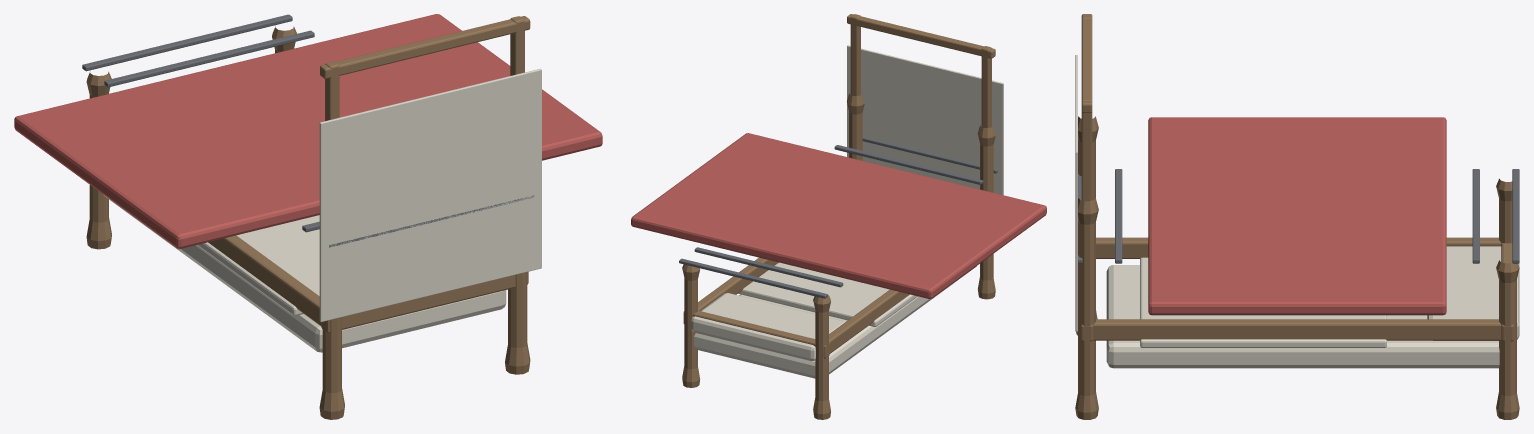
Rendered from infirmary_cot.glb.
3 views of the same model, side by side, from view 1: azimuth 30°, elevation 25°; view 2: azimuth 150°, elevation 25°; view 3: azimuth 270°, elevation 25° (orthographic). The views are drawn at different scales.
Parts seen in each view (by area): view 1: 274-infirmary-cot/2, 274-infirmary-cot/3, 274-infirmary-cot/0, 274-infirmary-cot/1; view 2: 274-infirmary-cot/3, 274-infirmary-cot/2, 274-infirmary-cot/0, 274-infirmary-cot/1; view 3: 274-infirmary-cot/3, 274-infirmary-cot/0, 274-infirmary-cot/2, 274-infirmary-cot/1.
Part boxes in pixels (x1=…): 274-infirmary-cot/2: x1=103, y1=68, x2=541, y2=352; 274-infirmary-cot/3: x1=14, y1=14, x2=602, y2=248; 274-infirmary-cot/0: x1=86, y1=16, x2=530, y2=419; 274-infirmary-cot/1: x1=82, y1=14, x2=534, y2=247; 274-infirmary-cot/3: x1=631, y1=133, x2=1046, y2=298; 274-infirmary-cot/2: x1=691, y1=45, x2=1003, y2=378; 274-infirmary-cot/0: x1=682, y1=14, x2=995, y2=419; 274-infirmary-cot/1: x1=679, y1=136, x2=997, y2=298; 274-infirmary-cot/3: x1=1148, y1=117, x2=1446, y2=315; 274-infirmary-cot/0: x1=1075, y1=14, x2=1519, y2=419; 274-infirmary-cot/2: x1=1075, y1=55, x2=1519, y2=368; 274-infirmary-cot/1: x1=1078, y1=169, x2=1519, y2=263.
Bounding box in the file's own units: 1 × 0.7875 × 1.
